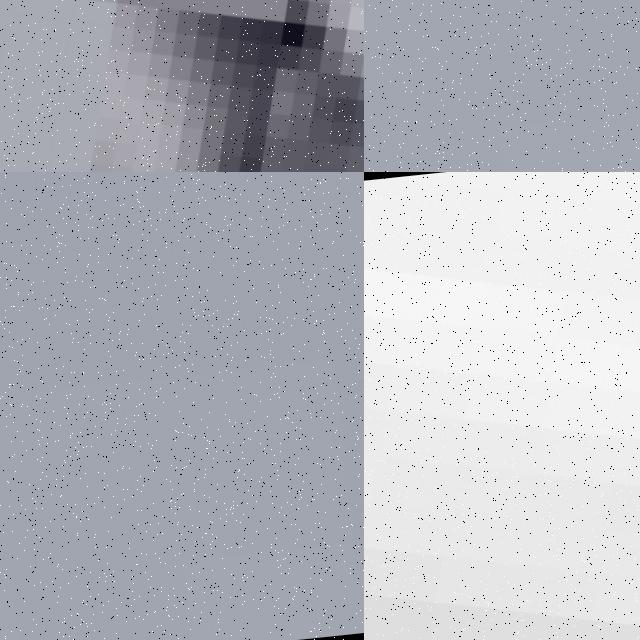drone: (364, 172, 640, 640), (0, 0, 364, 172)
